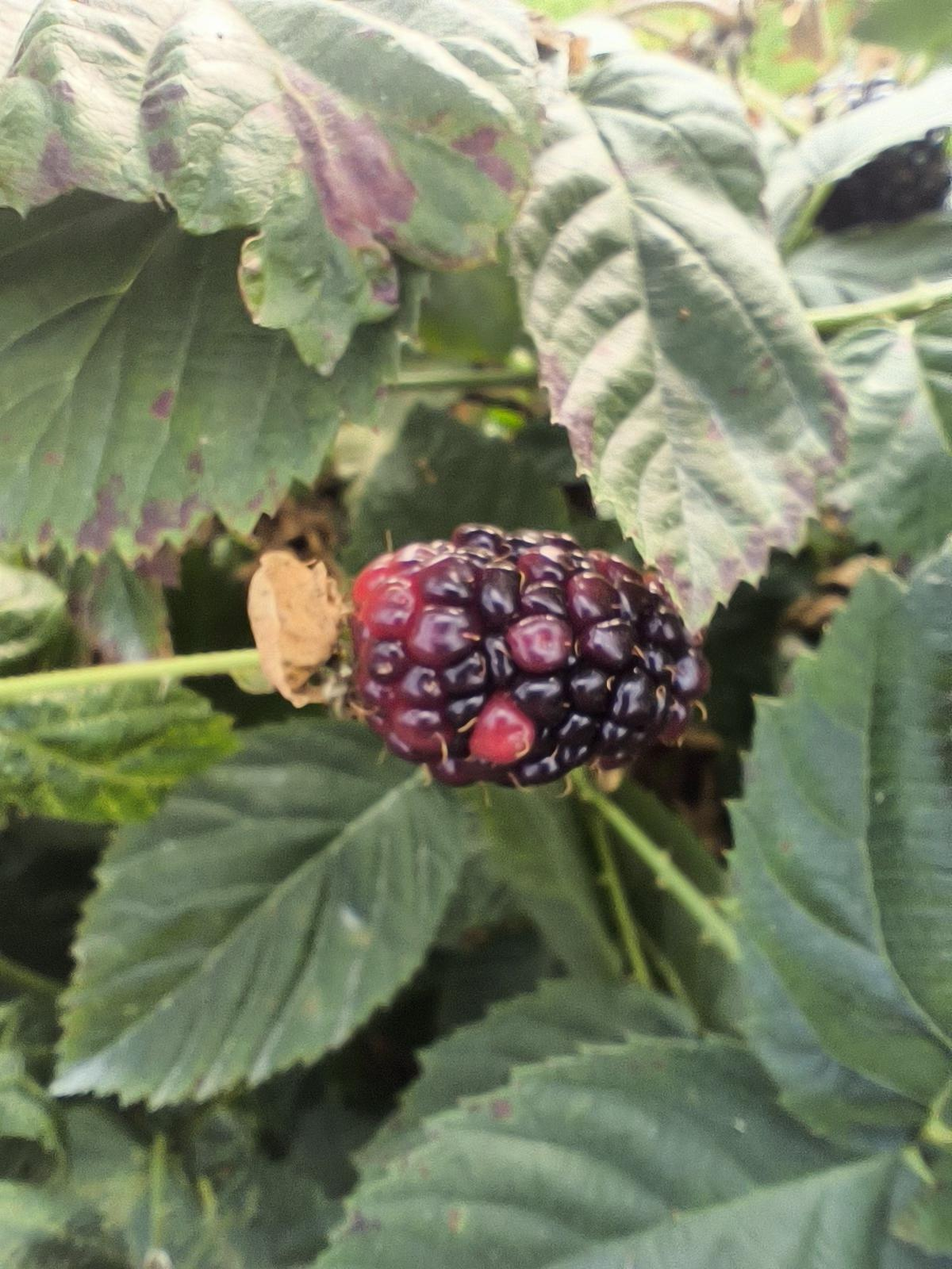marron: (349, 530, 706, 777)
